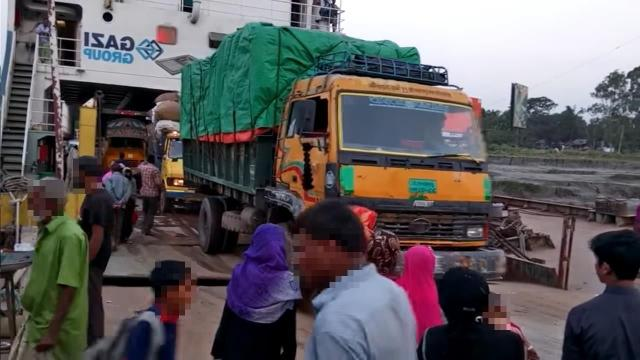truck: (184, 31, 513, 279), (151, 105, 190, 211)
